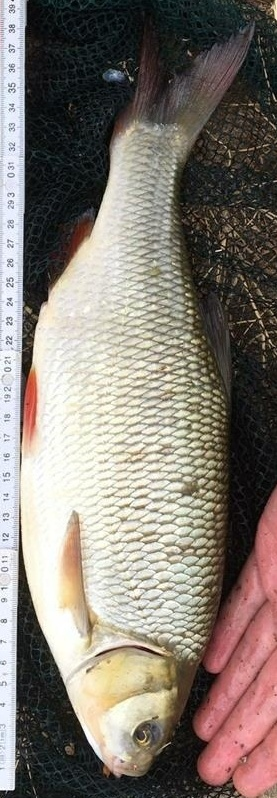Leuciscus idus: (20, 20, 257, 778)
